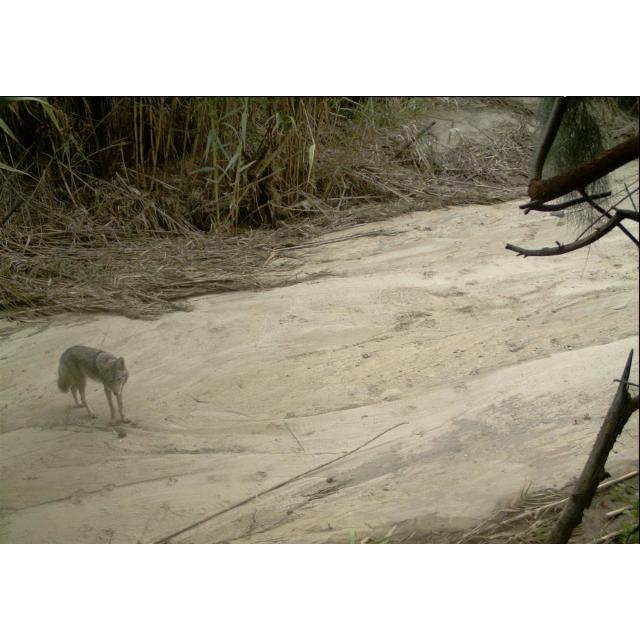animals: (53, 343, 131, 427)
